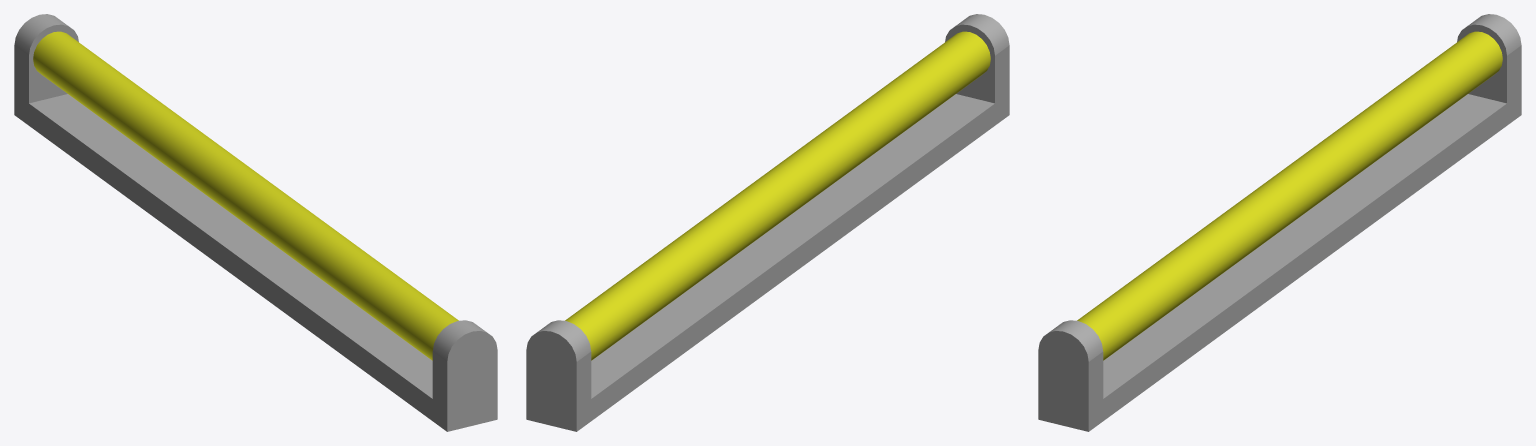
Rendered from sm_light_neon_LP.fbx.
3 renders of one model, left to right at view 1: azimuth 30°, elevation 25°; view 2: azimuth 150°, elevation 25°; view 3: azimuth 330°, elevation 25°, orthographic.
Visible parts, largest first — view 1: light_neon_LP; view 2: light_neon_LP; view 3: light_neon_LP.
Part boxes in pixels (x1,y1,x2,y2): light_neon_LP: (14,14,497,431); light_neon_LP: (526,14,1009,431); light_neon_LP: (1038,14,1521,431).
Size of the model in its own units: 28.56 by 51.17 by 426.
